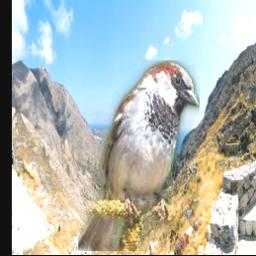Sparrow: (77, 60, 199, 251)
